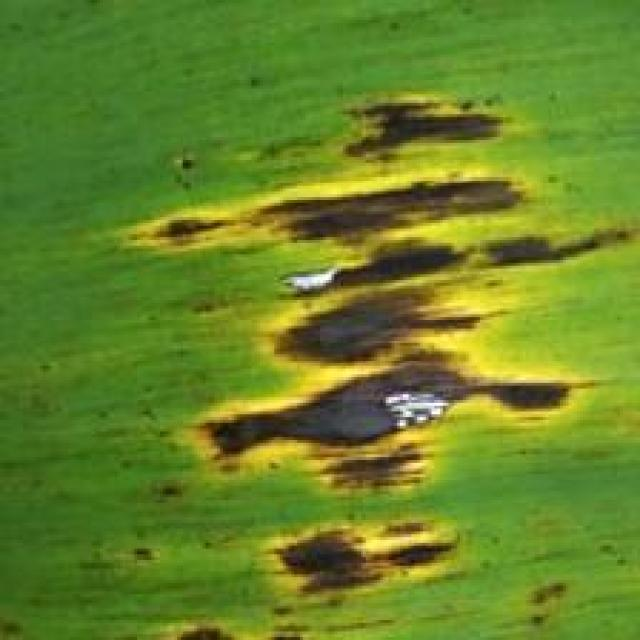Early_leaf_spot: (116, 57, 610, 640)
